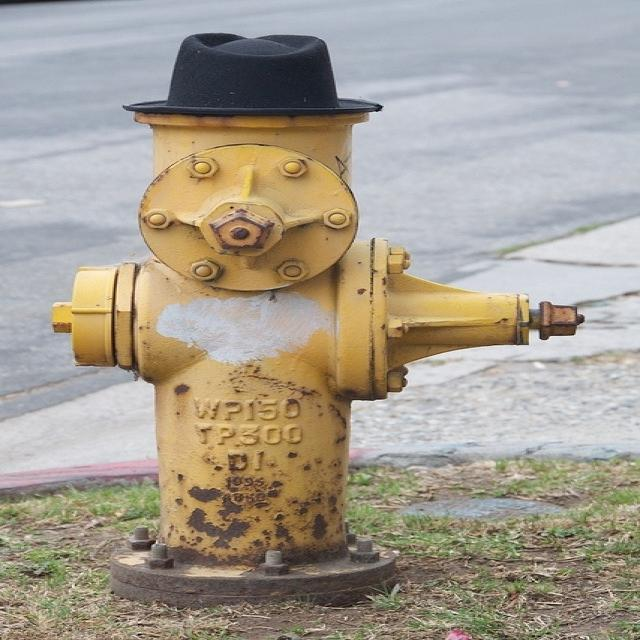fire_hydrant: (75, 46, 426, 601)
